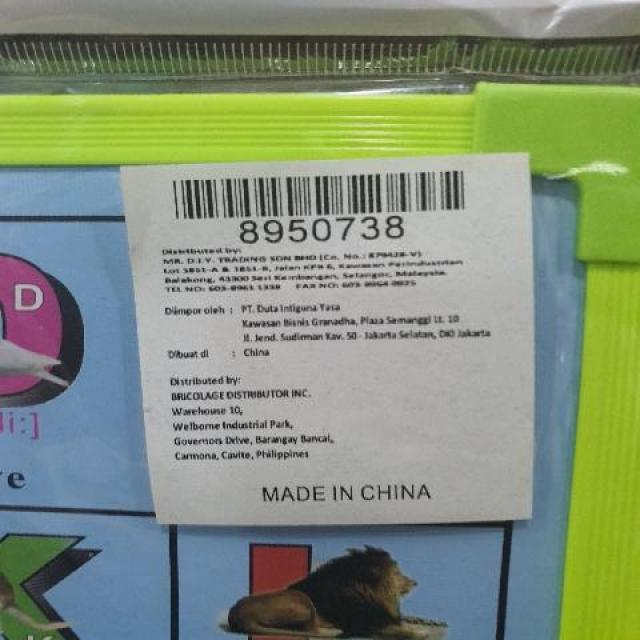Barcode: (147, 161, 484, 244)
